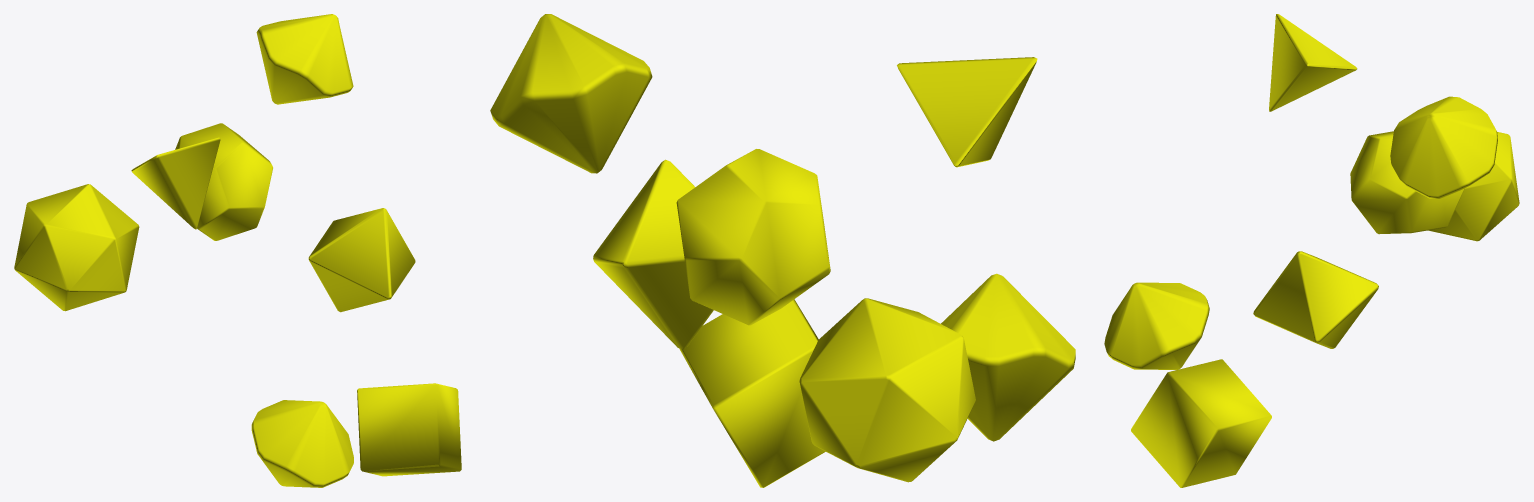
Rendered from dice-set.glb.
The picture shows the model from 3 angles, left to right: view 1: azimuth 30°, elevation 25°; view 2: azimuth 150°, elevation 25°; view 3: azimuth 270°, elevation 25°; orthographic projection. The views are drawn at different scales.
Parts seen in each view (by area): view 1: sm_K100_DiceSet_03; view 2: sm_K100_DiceSet_03; view 3: sm_K100_DiceSet_03.
Part boxes in pixels (left/top/right/bottom): sm_K100_DiceSet_03: left=14, top=14, right=461, bottom=487; sm_K100_DiceSet_03: left=490, top=14, right=1075, bottom=487; sm_K100_DiceSet_03: left=1104, top=14, right=1519, bottom=487.
Size of the model in its own units: 0.0628 by 0.0705 by 0.069.
Materials: 1 (1 with a texture image).
